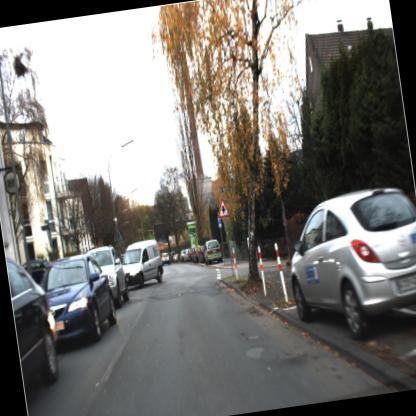danger: (214, 193, 232, 225)
